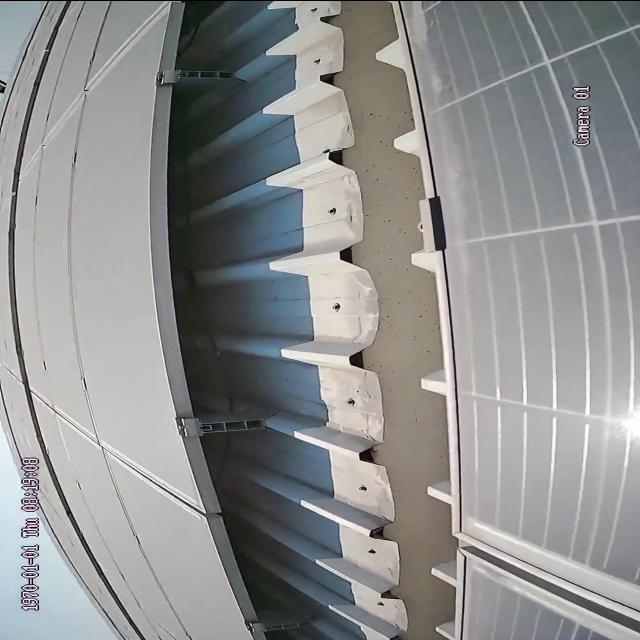interior panel: (26, 1, 165, 169), (479, 522, 640, 640), (35, 391, 190, 512)
outher panel: (151, 1, 475, 640)
